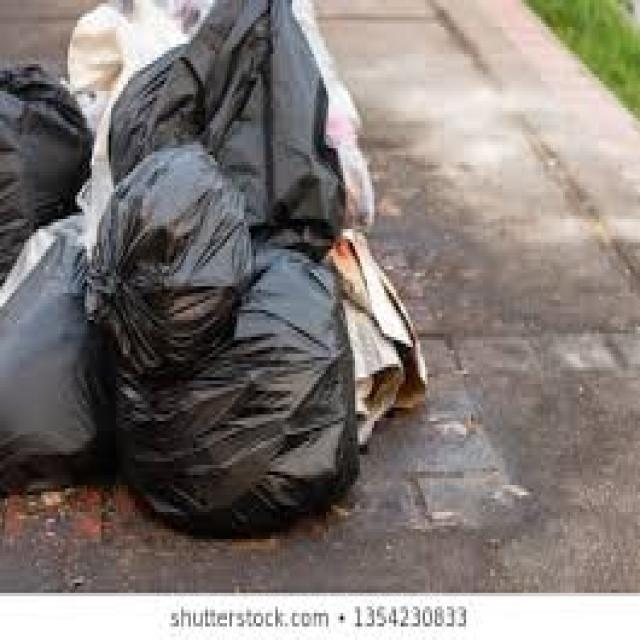garbage: (0, 0, 459, 546)
